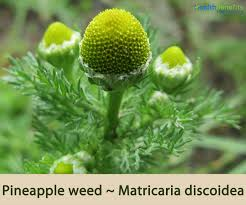pineple: (114, 52, 214, 142), (15, 47, 100, 133)
